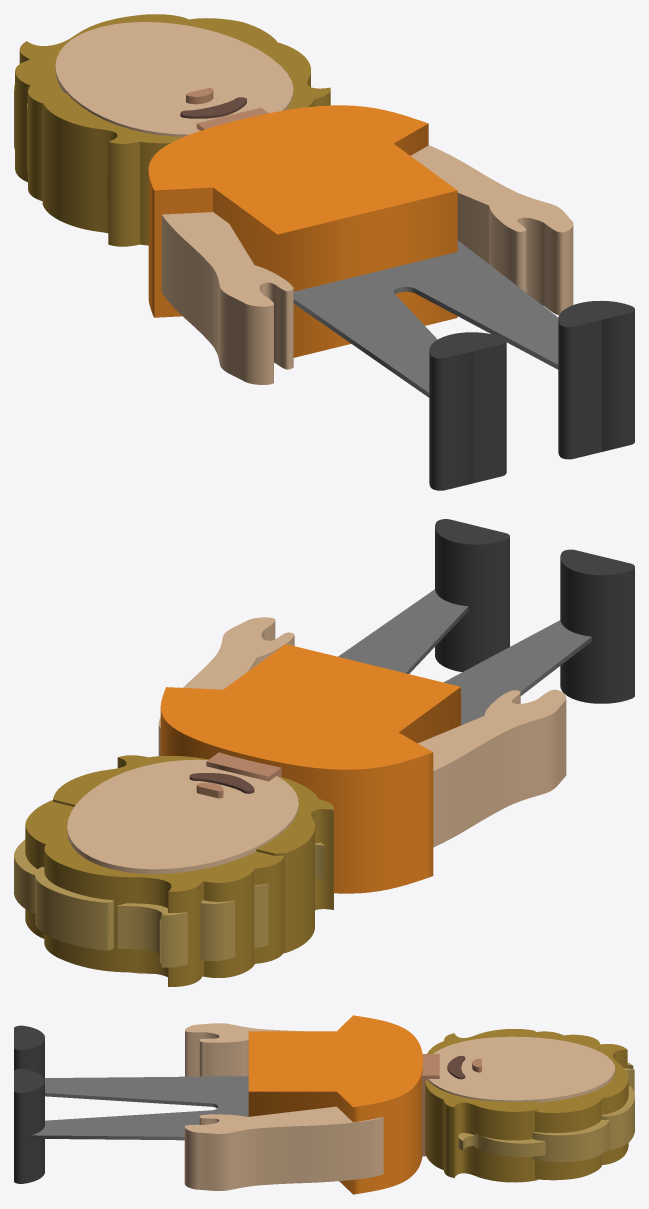
File: emoji_u1f9cd_1f3fc.glb
3 renders of one model, top to bottom at view 1: azimuth 30°, elevation 25°; view 2: azimuth 150°, elevation 25°; view 3: azimuth 270°, elevation 25°, orthographic. The views are drawn at different scales.
Parts seen in each view (by area): view 1: emoji_u1f9cd_1f3fc; view 2: emoji_u1f9cd_1f3fc; view 3: emoji_u1f9cd_1f3fc.
Part boxes in pixels (bbox=[...]): emoji_u1f9cd_1f3fc: bbox=[14, 14, 634, 490]; emoji_u1f9cd_1f3fc: bbox=[14, 519, 634, 986]; emoji_u1f9cd_1f3fc: bbox=[14, 1015, 634, 1194].
Bounding box in the file's own units: 0.0143 × 0.0054 × 0.0335.
